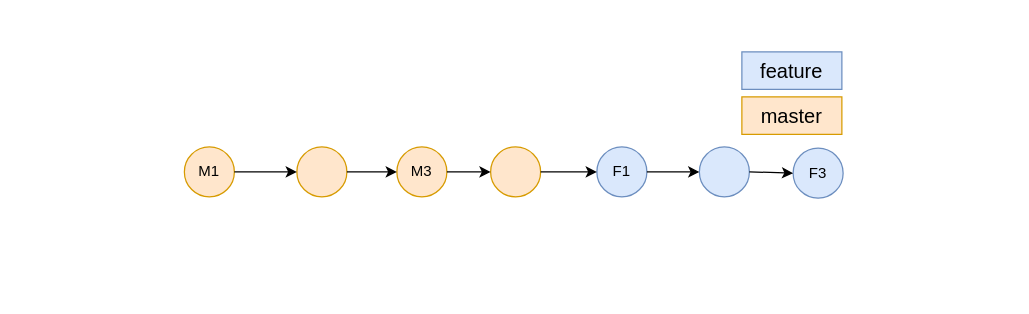
Image size: 1029x314. Some labels were removed from this diagram. The centre of each missing label's shape, as x and y in pixels:
"F2" belongs at point (723, 171).
"M2" belongs at point (321, 171).
"M4" belongs at point (515, 171).
